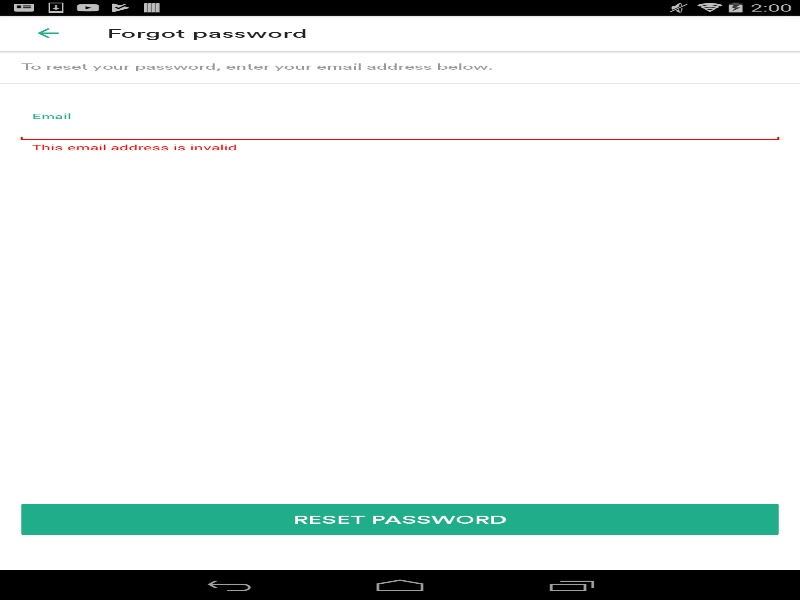Button: (21, 503, 778, 535), (10, 15, 85, 50)
Input: (16, 118, 784, 142)
